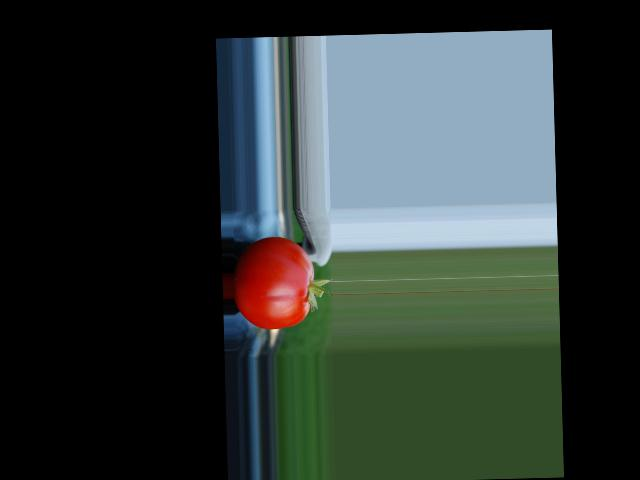tomato: (232, 236, 315, 330)
